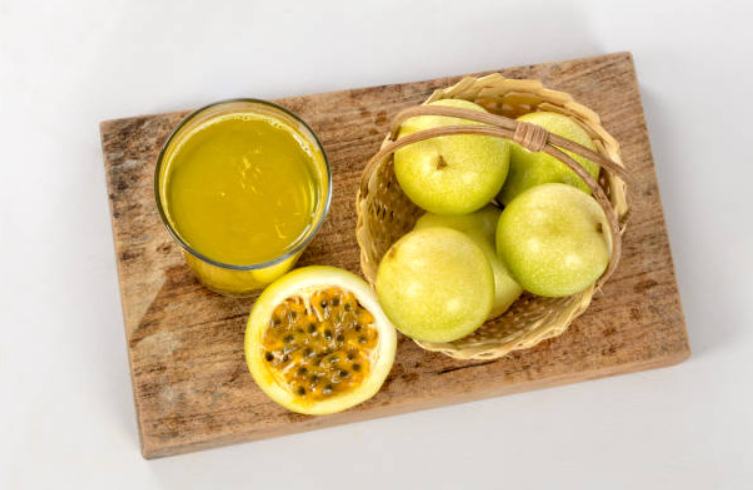maracuya: (499, 179, 620, 305), (376, 221, 497, 344)
